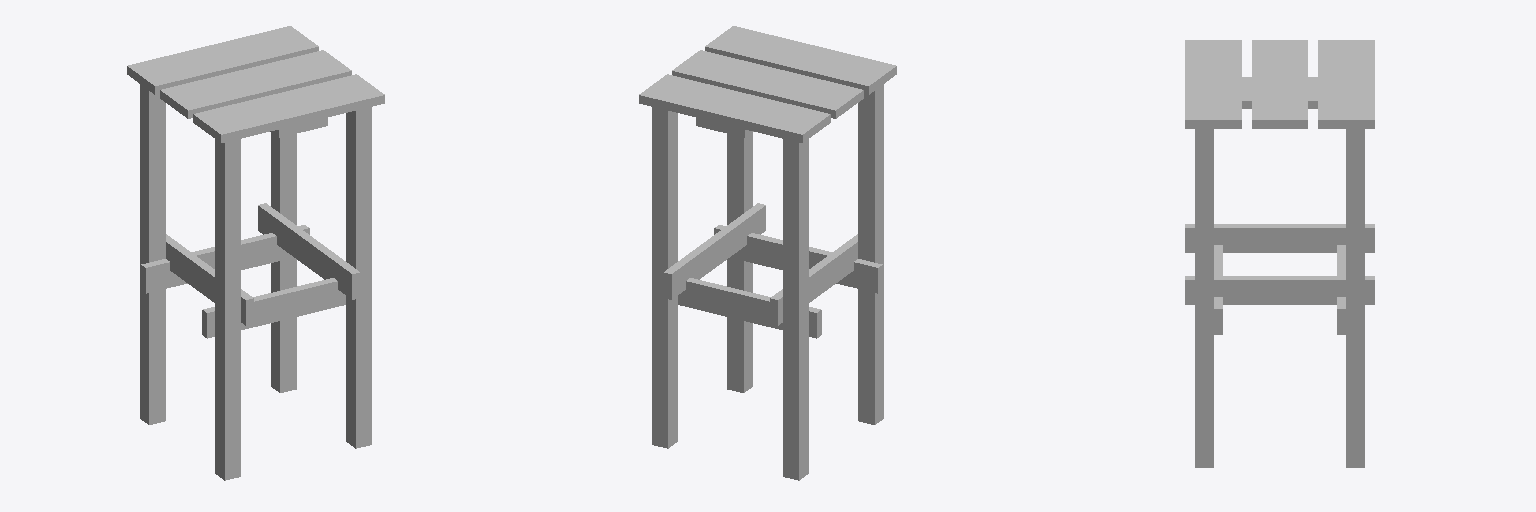
Rendered from scaffold_small_high.obj.
3 views of the same model, side by side, from view 1: azimuth 30°, elevation 25°; view 2: azimuth 150°, elevation 25°; view 3: azimuth 270°, elevation 25° (orthographic).
Visible parts, largest first — view 1: scaffold_small_high_Cube.011; view 2: scaffold_small_high_Cube.011; view 3: scaffold_small_high_Cube.011.
Part boxes in pixels (left/top/right/bottom): scaffold_small_high_Cube.011: left=127, top=26, right=384, bottom=480; scaffold_small_high_Cube.011: left=639, top=26, right=896, bottom=480; scaffold_small_high_Cube.011: left=1185, top=40, right=1374, bottom=467.
Size of the model in its own units: 2 by 4.1 by 2.